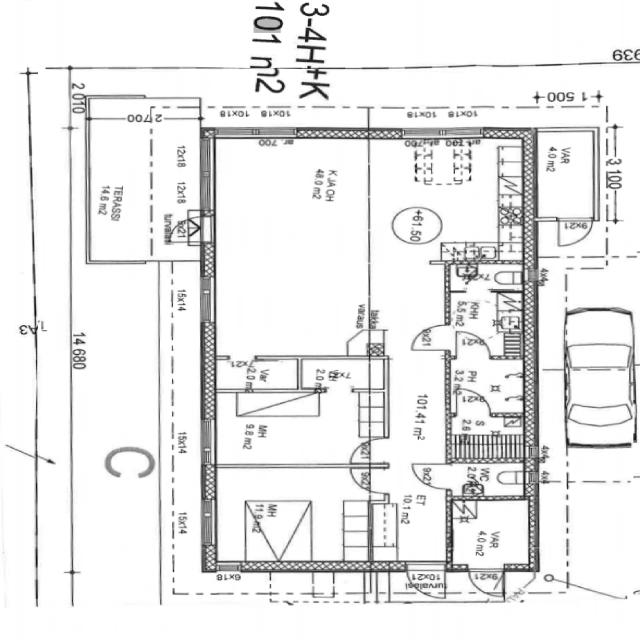door: (405, 563, 448, 599), (554, 217, 594, 250), (465, 566, 505, 598), (410, 323, 454, 351), (453, 330, 492, 361), (450, 389, 492, 416), (500, 568, 537, 597), (341, 328, 375, 357), (410, 462, 445, 489), (347, 467, 376, 493), (346, 441, 376, 464)
window: (192, 133, 220, 216), (194, 274, 220, 329), (196, 494, 220, 549), (195, 415, 219, 466), (397, 127, 484, 141), (213, 126, 300, 140), (358, 254, 378, 312), (213, 562, 247, 576)
zone: (208, 136, 376, 360), (369, 136, 528, 256), (204, 467, 375, 568), (208, 389, 380, 468), (562, 355, 636, 445), (448, 499, 534, 570), (447, 280, 523, 357), (535, 130, 597, 221), (448, 358, 528, 413), (446, 413, 526, 462), (447, 460, 529, 500), (216, 358, 302, 392), (300, 358, 382, 392), (267, 571, 317, 598)
